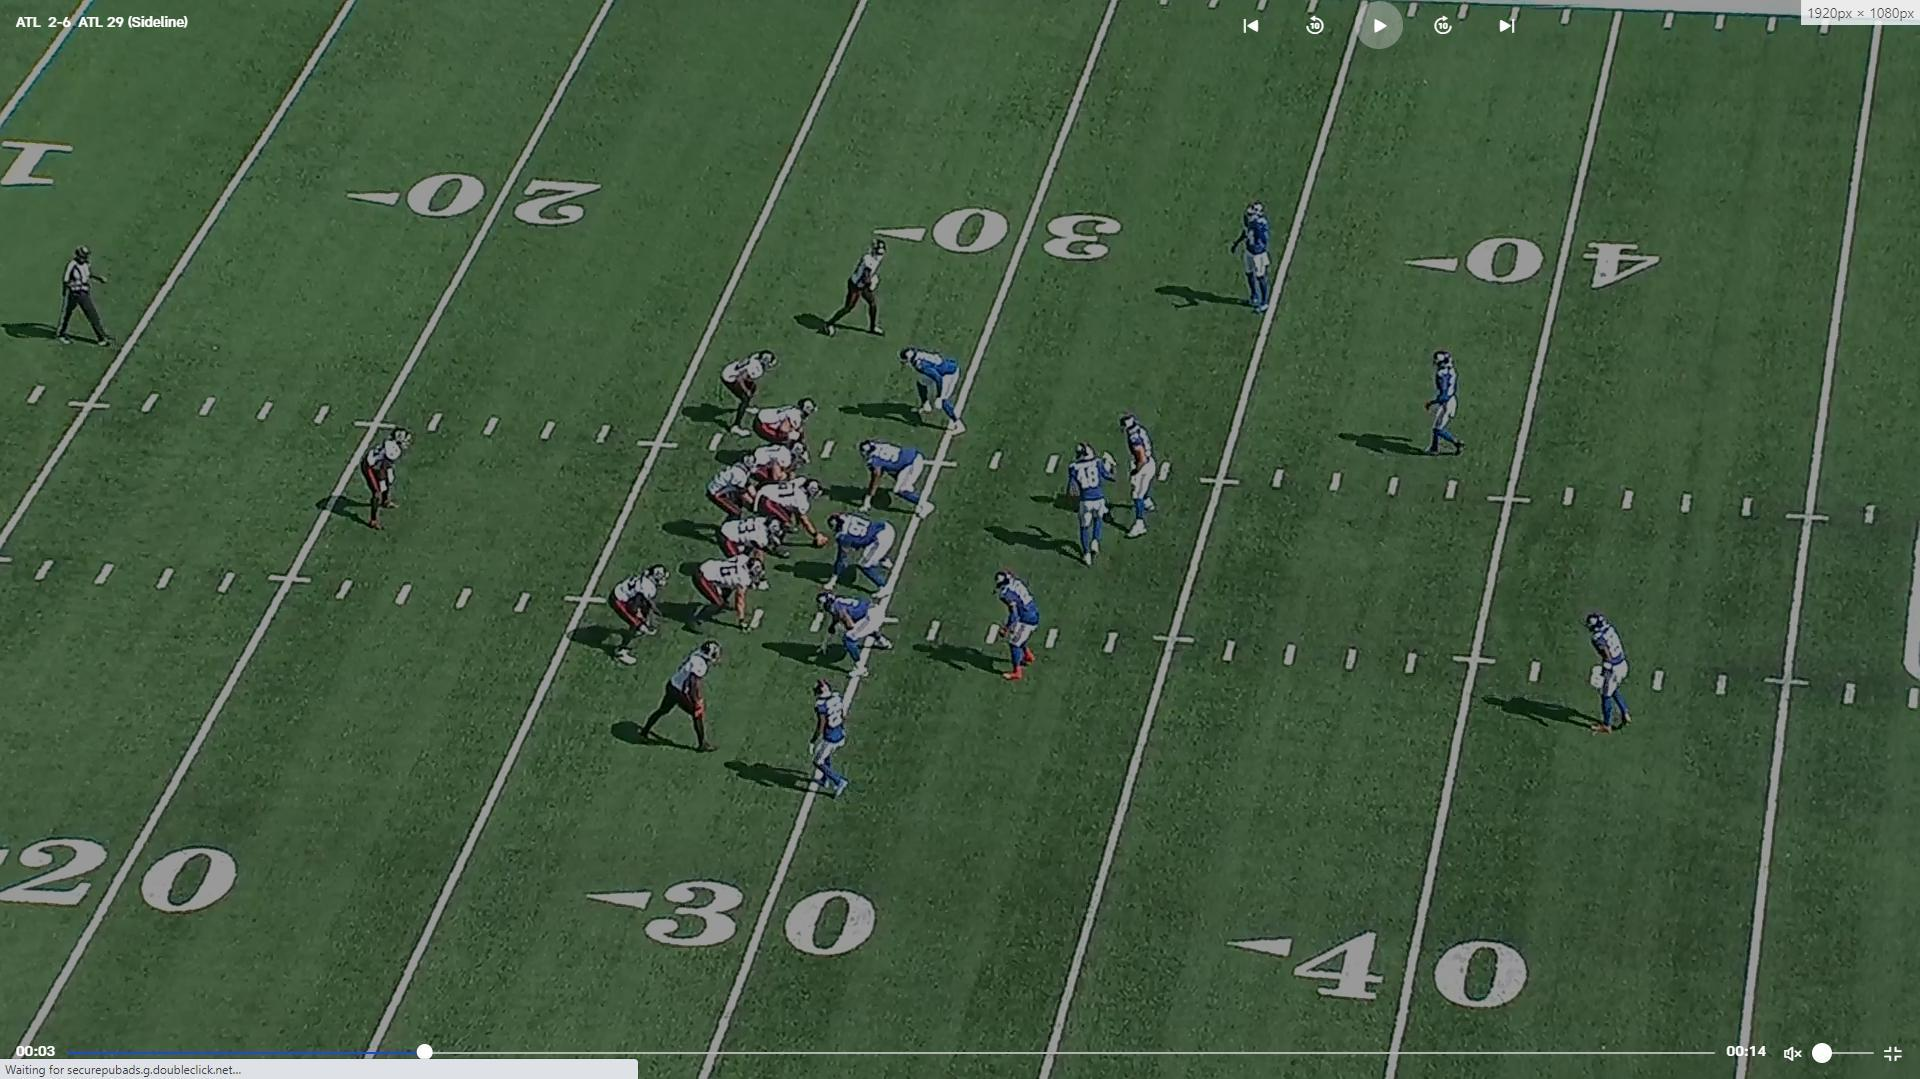player: (633, 640, 722, 759), (818, 239, 890, 345), (853, 437, 935, 523), (1582, 607, 1636, 737), (349, 426, 413, 535), (823, 512, 899, 602), (1061, 441, 1114, 570), (813, 585, 893, 670), (903, 346, 975, 440), (805, 675, 857, 802), (611, 563, 673, 668), (1113, 408, 1161, 542), (996, 564, 1047, 684), (690, 557, 769, 634), (754, 475, 826, 556), (1233, 197, 1281, 318), (716, 346, 778, 438), (707, 518, 773, 597), (1426, 349, 1470, 462), (701, 448, 759, 531), (748, 400, 816, 456), (744, 447, 809, 488)
ref: (58, 244, 118, 351)
